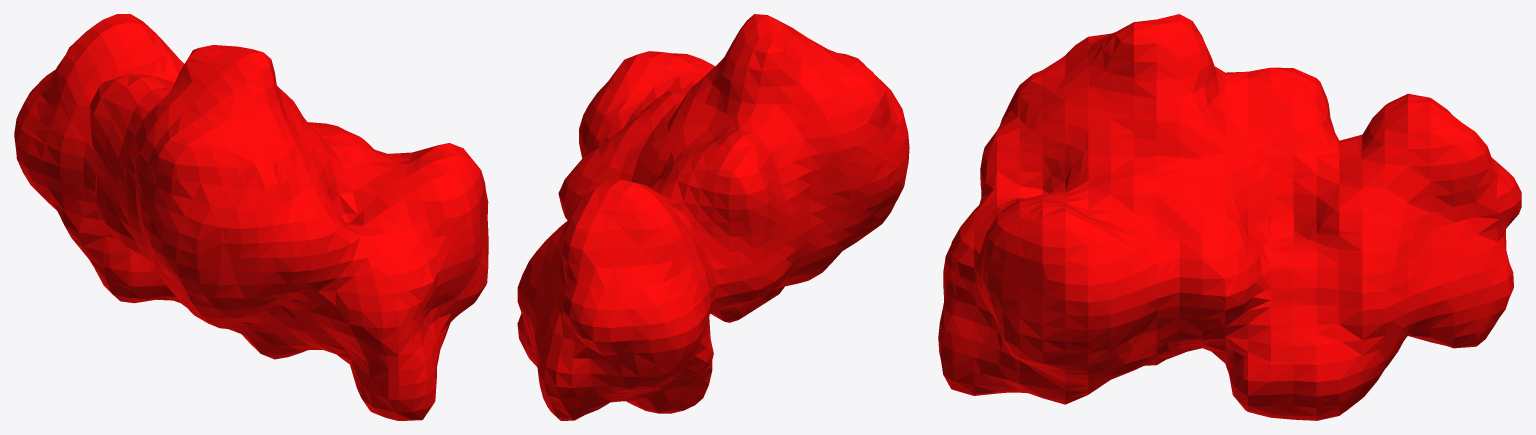
Rendered from ugpC_coarse.dae.
3 views of the same model, side by side, from view 1: azimuth 30°, elevation 25°; view 2: azimuth 150°, elevation 25°; view 3: azimuth 270°, elevation 25° (orthographic). The views are drawn at different scales.
Visible parts, largest first — view 1: ugpC; view 2: ugpC; view 3: ugpC.
Part boxes in pixels (x1,y1,x2,y2): ugpC: (14,14,488,420); ugpC: (517,14,909,420); ugpC: (938,14,1521,420).
Bounding box in the file's own units: 51.68 × 52.91 × 80.44.
